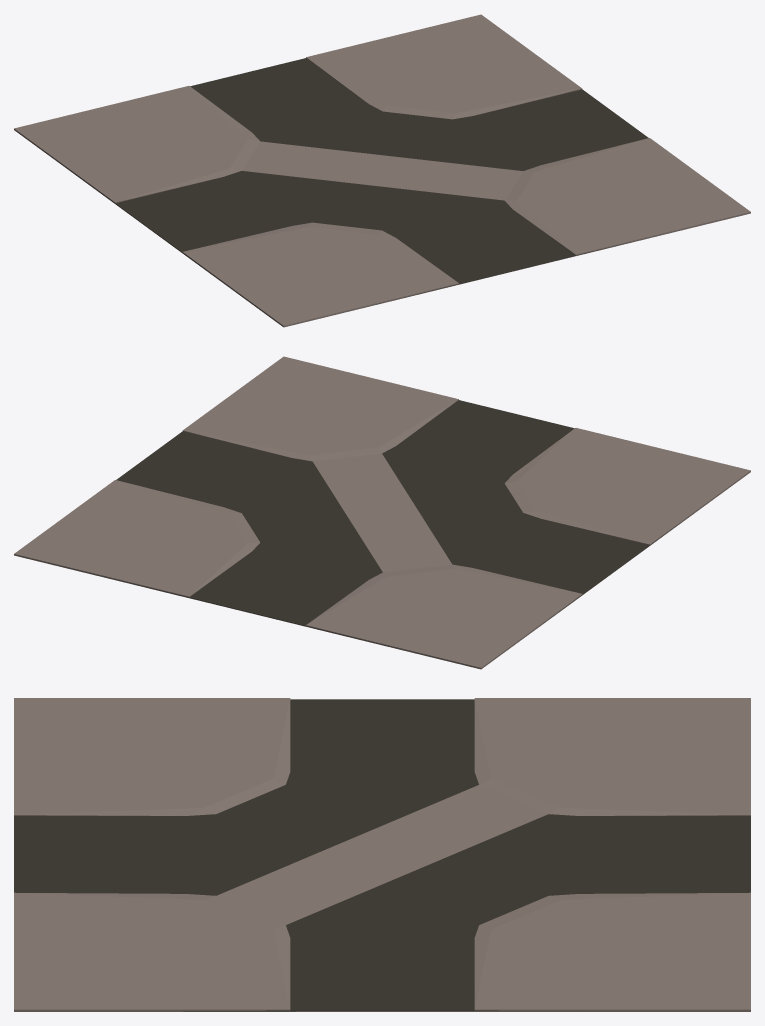
The model's file is Env_2lane_Cross_col.fbx.
3 renders of one model, top to bottom at view 1: azimuth 30°, elevation 25°; view 2: azimuth 150°, elevation 25°; view 3: azimuth 270°, elevation 25°, orthographic. The views are drawn at different scales.
Visible parts, largest first — view 1: Env_2lane_Cross_col; view 2: Env_2lane_Cross_col; view 3: Env_2lane_Cross_col.
Boxes of the visible parts, x1,y1,x2,y2 form: Env_2lane_Cross_col: (14, 14, 750, 327); Env_2lane_Cross_col: (14, 356, 750, 669); Env_2lane_Cross_col: (14, 698, 750, 1011).
Bounding box in the file's own units: 6000 × 20 × 6000.
